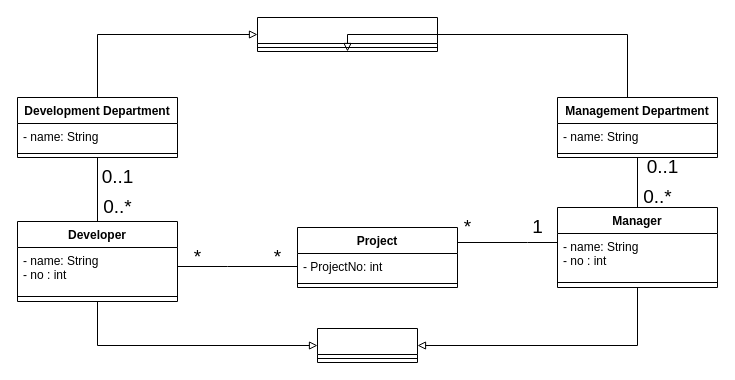
The diagram is 735 pixels wide and 380 high, and some of its shapes have lost their labels. Here are the shapes that lost their labels. From the top down, the centre of each, then its label:
[347,34]: Department
[367,345]: Employee
